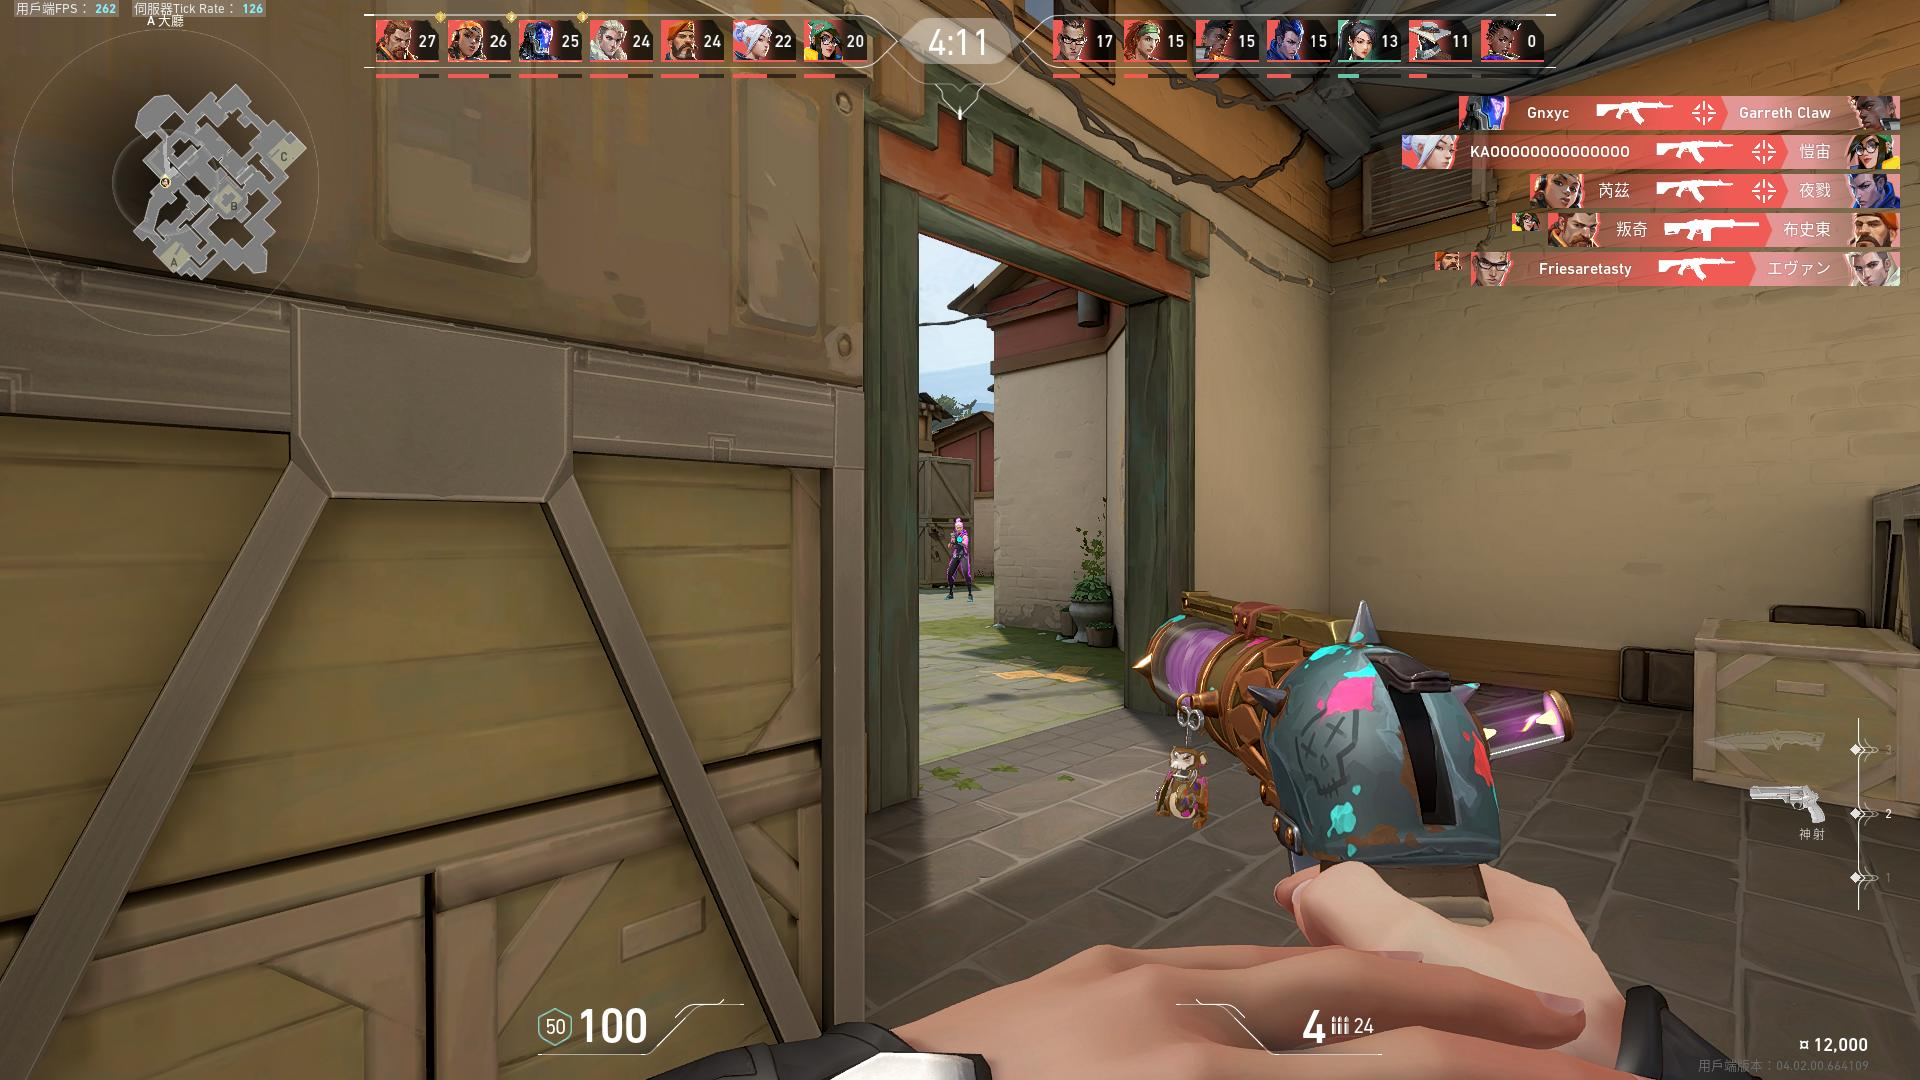enemyBody: (953, 534, 964, 554)
enemyHead: (956, 524, 961, 533)
